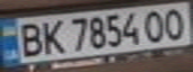4: (121, 10, 145, 46)
5: (103, 11, 127, 48)
7: (66, 15, 90, 52)
8: (87, 14, 109, 50)
B: (12, 20, 45, 57)
K: (36, 18, 66, 55)
O: (139, 7, 172, 43), (157, 4, 190, 40)
